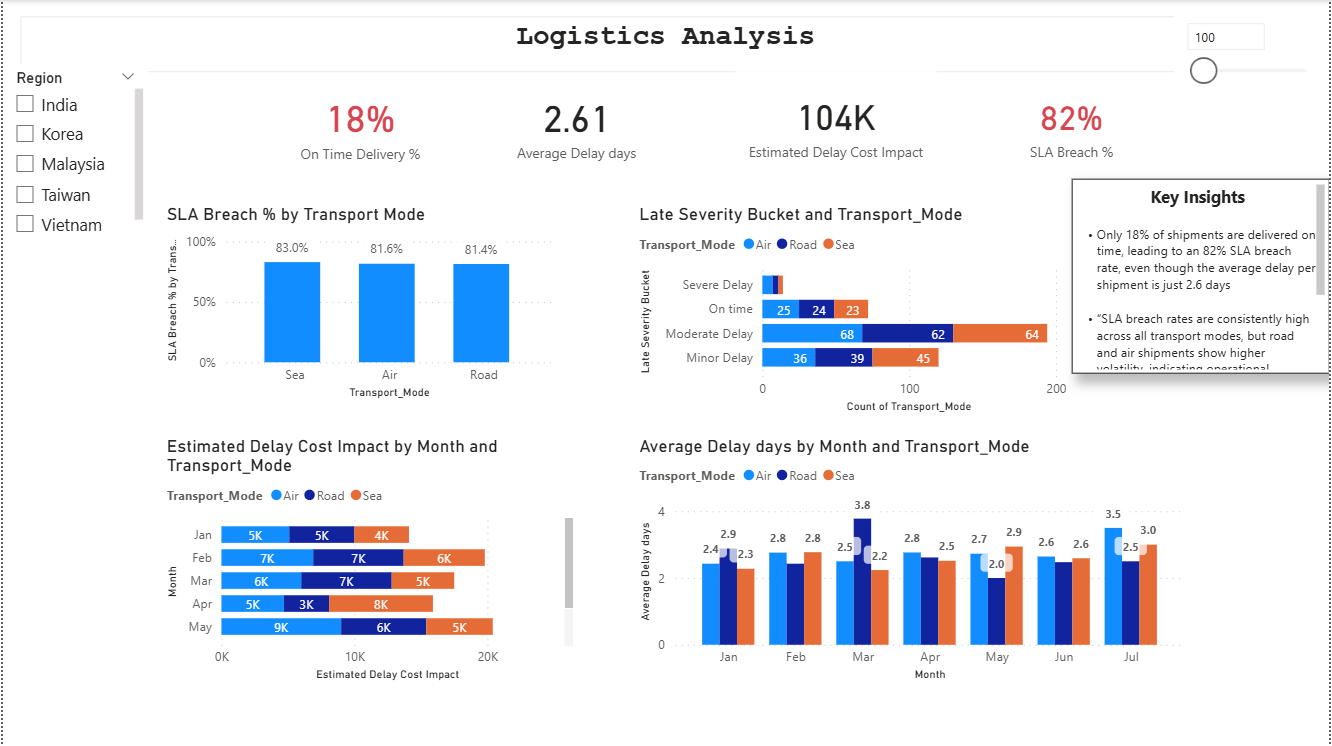

The page's visual inventory and layout, read from the dashboard file:
{"tool":"powerbi","page":{"name":"Logistics Analysis","canvas":[1280,720],"ordinal":2},"visuals":[{"type":"card","fields":{"Values":["_Measures.On Time Delivery %"]},"box":[262.9,68.7,164,103.7],"z":0},{"type":"card","fields":{"Values":["_Measures.Average Delay days"]},"box":[467.9,68.7,171.3,102.5],"z":1000},{"type":"card","fields":{"Values":["_Measures.Late Shipment %"]},"box":[951.6,68.7,159.2,103.7],"z":2000},{"type":"textbox","box":[17.2,16,1244.9,54],"z":3000},{"type":"lineClusteredColumnComboChart","fields":{"Category":["Date_Table.Month"],"Y":["_Measures.Average Delay days"],"Series":["Logistics_Data.Transport_Mode"]},"box":[609,419.7,536.7,242.4],"z":4000},{"type":"slicer","fields":{"Values":["Logistics_Data.Region"]},"box":[0,61.5,139.9,167.6],"z":5000},{"type":"lineClusteredColumnComboChart","title":"SLA Breach % by Transport Mode","fields":{"Category":["Logistics_Data.Transport_Mode"],"Y":["_Measures.SLA Breach % by Transport Mode"]},"box":[153.2,196.6,382.3,193],"z":6000},{"type":"barChart","title":"Late Severity Bucket and Transport_Mode","fields":{"Y":["CountNonNull(Logistics_Data.Transport_Mode)"],"Category":["Logistics_Data.Late Severity Bucket"],"Series":["Logistics_Data.Transport_Mode"]},"box":[609,196.6,422.1,206.2],"z":7000},{"type":"slicer","fields":{"Values":["Delay Cost Per Day.Delay Cost Per Day"]},"box":[1130.1,12.1,149.5,97.7],"z":8000},{"type":"card","fields":{"Values":["_Measures.Delay Cost Impact"]},"box":[706.7,68.7,194.2,102.5],"z":9000},{"type":"barChart","fields":{"Category":["Date_Table.Month"],"Series":["Logistics_Data.Transport_Mode"],"Y":["_Measures.Delay Cost Impact"]},"box":[153.2,419.7,401.6,242.4],"z":10000},{"type":"textbox","box":[1031.2,172.5,248.4,188.1],"z":11000}]}

Visuals, with their boxes in screenshot pixels (x1, y1, x2, y2), scaled from the page's 1280x720 canvas onto the 1332x746 screenshot:
card - _Measures.On Time Delivery %: x1=274 y1=71 x2=444 y2=179
card - _Measures.Average Delay days: x1=487 y1=71 x2=665 y2=177
card - _Measures.Late Shipment %: x1=990 y1=71 x2=1156 y2=179
textbox: x1=18 y1=17 x2=1313 y2=73
lineClusteredColumnComboChart - Date_Table.Month x _Measures.Average Delay days: x1=634 y1=435 x2=1192 y2=686
slicer - Logistics_Data.Region: x1=0 y1=64 x2=146 y2=237
"SLA Breach % by Transport Mode" lineClusteredColumnComboChart: x1=159 y1=204 x2=557 y2=404
"Late Severity Bucket and Transport_Mode" barChart: x1=634 y1=204 x2=1073 y2=417
slicer - Delay Cost Per Day.Delay Cost Per Day: x1=1176 y1=13 x2=1331 y2=114
card - _Measures.Delay Cost Impact: x1=735 y1=71 x2=937 y2=177
barChart - Date_Table.Month x Logistics_Data.Transport_Mode: x1=159 y1=435 x2=577 y2=686
textbox: x1=1073 y1=179 x2=1331 y2=374
